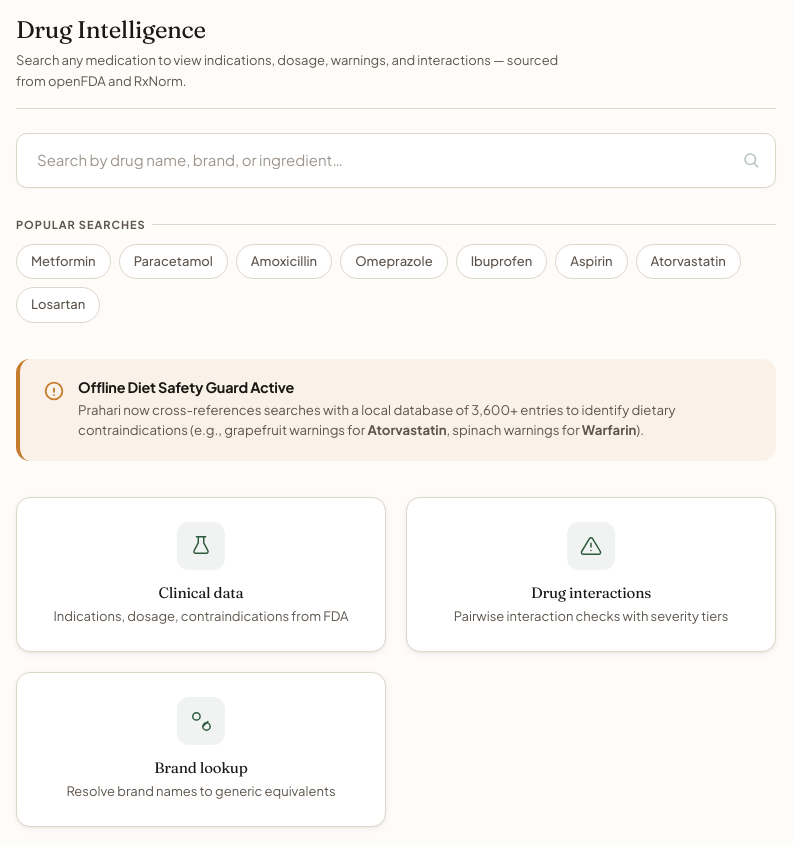
Test: MedicationsPage Component Integration › handles search query errors and allows retry
In the search field with placeholder "Search by drug name, brand, or ingredient…": (396, 160) [16,133,776,188], type "Aspirin"
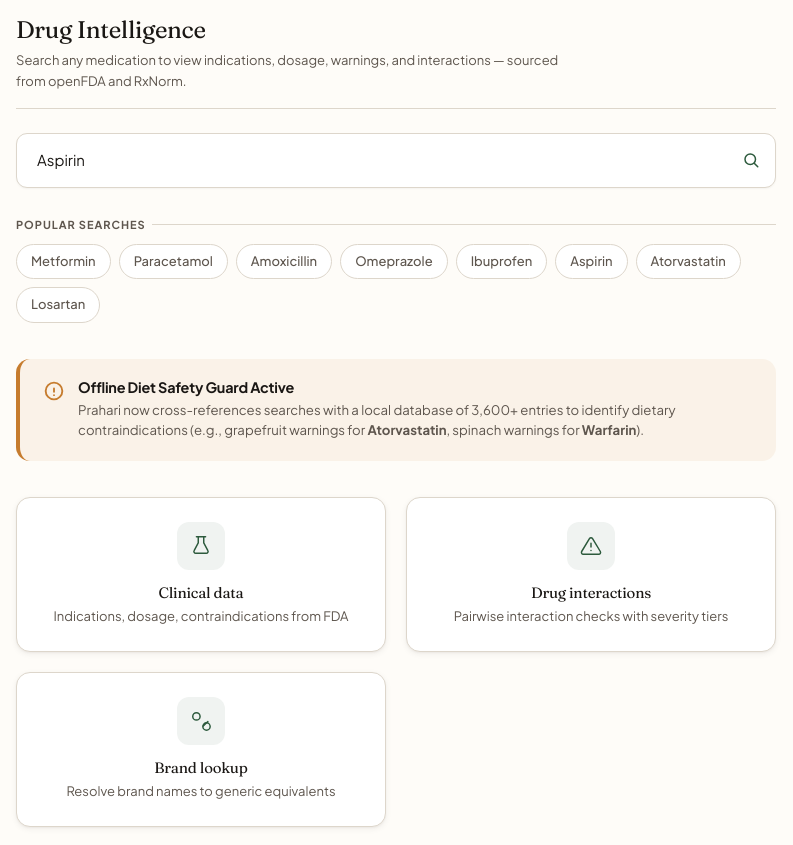
Click the button named "Search": (751, 160) [738,147,764,173]
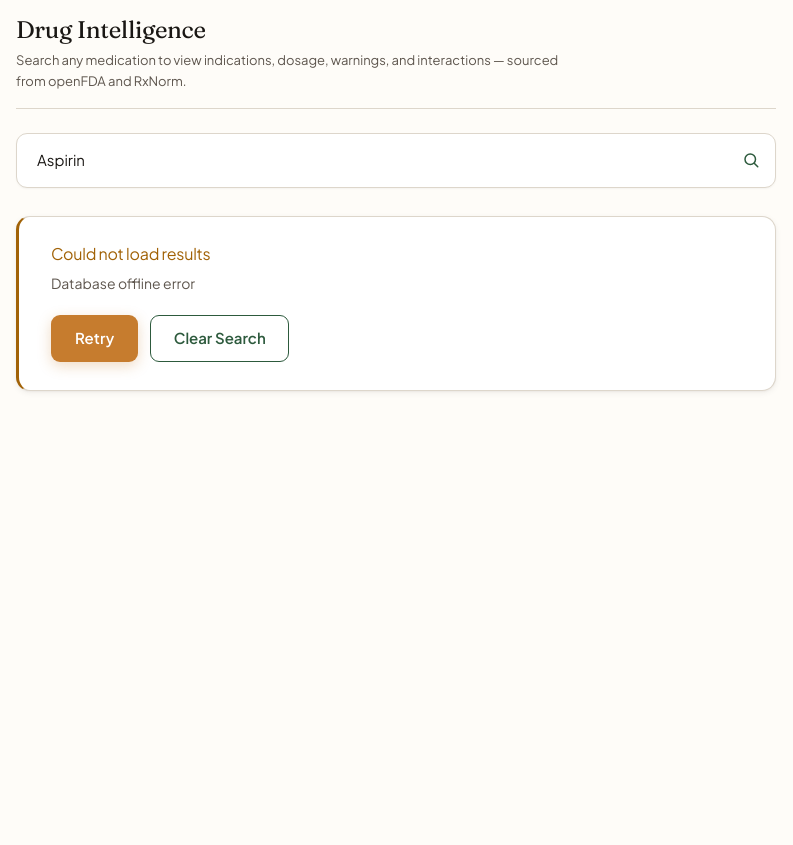
Result: the text "Database offline error" is shown at [51,274,195,292]
Click the button "Retry": (95, 338) [51,315,138,362]
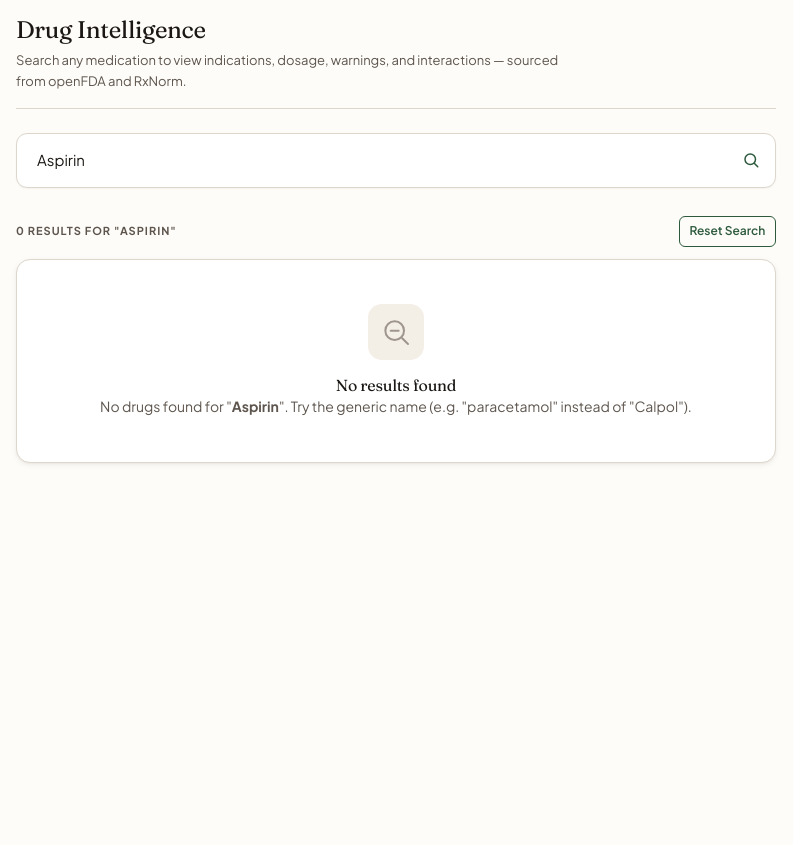
Result: the heading "No results found" is shown at [336,375,456,395]
